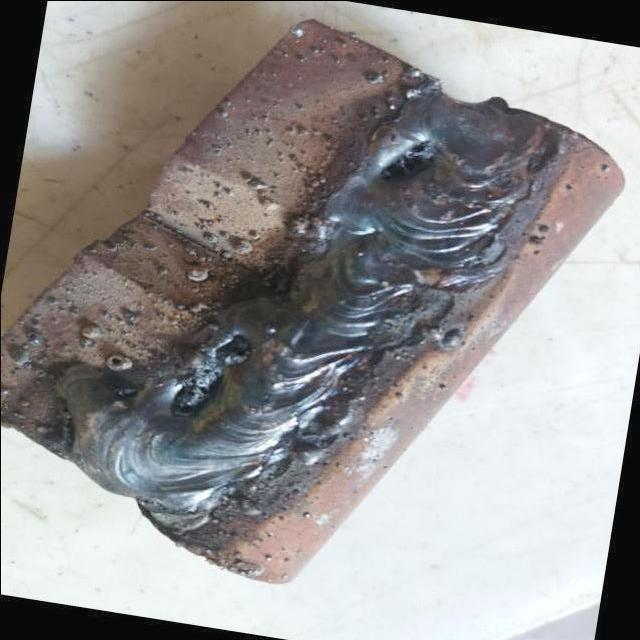defect: (168, 337, 252, 419), (369, 136, 441, 183)
